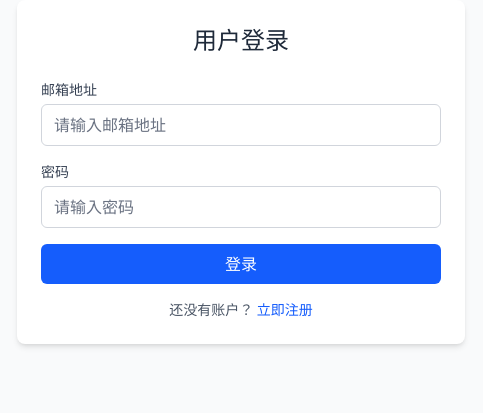
Test: LoginForm组件 › 表单状态 › 应该重置错误状态当用户开始输入时
先提交空表单显示错误
Click the button "登录" at (241,264), box [41,244,441,284]
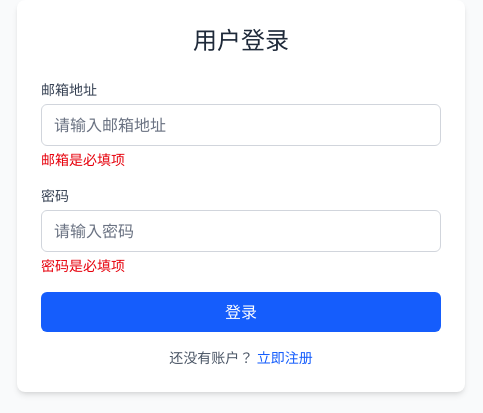
Now the text "邮箱是必填项" is shown, box [41,150,125,169]
开始输入邮箱，错误应该消失
Type "test@example.com" into the field labelled "邮箱地址" at (241,125), box [41,104,441,146]
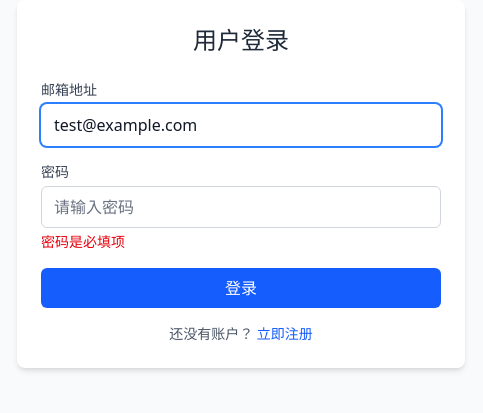
Now the text "邮箱是必填项" is gone
